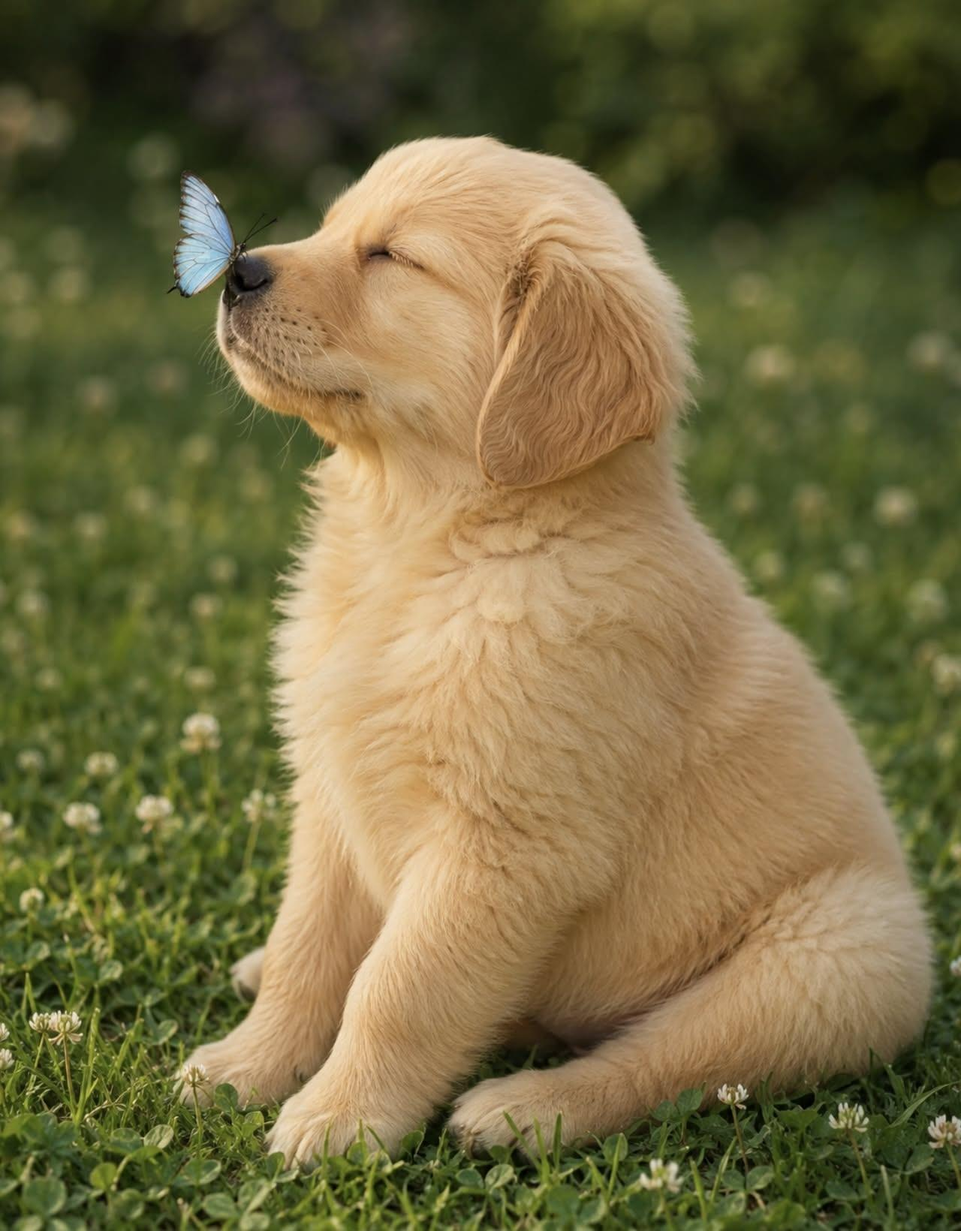non-dog: (165, 167, 279, 299)
puppy-dog: (173, 132, 941, 1175)
